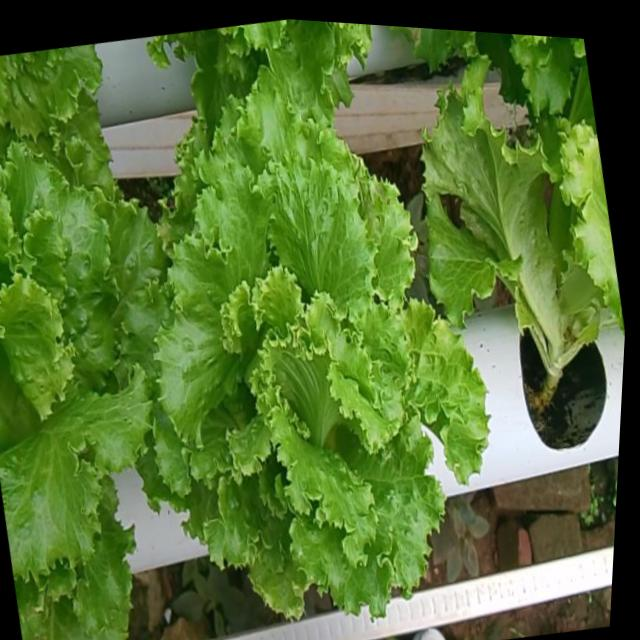Mature: (164, 102, 497, 634), (0, 154, 176, 603)
